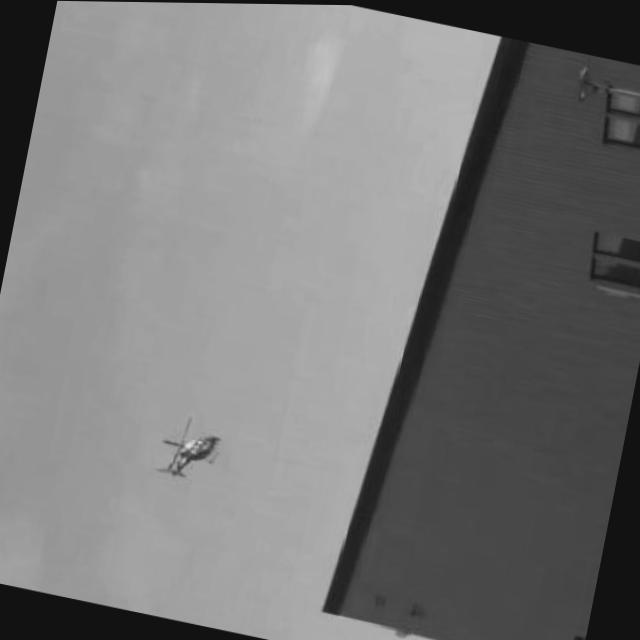helikopter: (142, 407, 232, 494)
